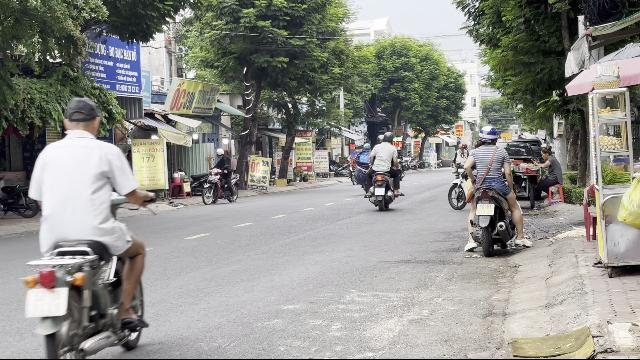helmet: (478, 125, 498, 145)
licenseplate: (25, 288, 69, 318), (476, 205, 494, 215)
motorcyclist: (16, 97, 158, 357), (461, 124, 525, 256)
nohelmet: (61, 96, 103, 138)
